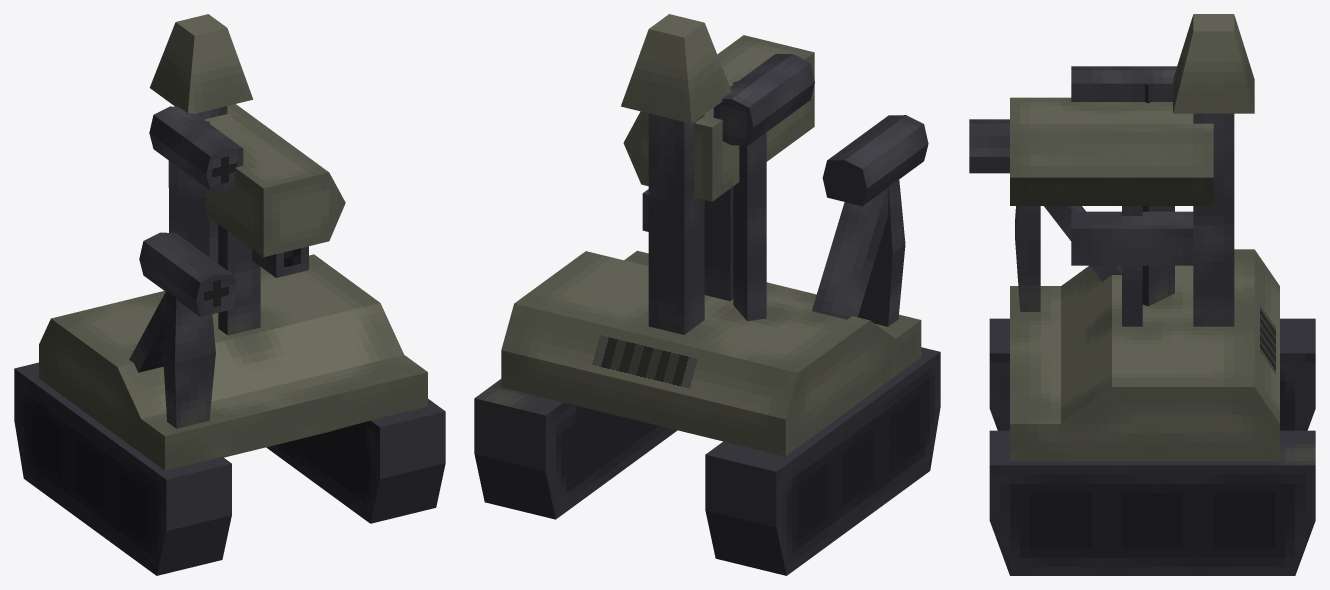
The model's file is player.gltf.
3 views of the same model, side by side, from view 1: azimuth 30°, elevation 25°; view 2: azimuth 150°, elevation 25°; view 3: azimuth 270°, elevation 25° (orthographic). The views are drawn at different scales.
Visible parts, largest first — view 1: mesh (×3), top; view 2: mesh (×3), top; view 3: mesh (×3), top.
Boxes of the visible parts, left/top/right/bottom form: mesh (×3): left=14, top=254, right=445, bottom=575; top: left=129, top=14, right=345, bottom=428; mesh (×3): left=474, top=250, right=940, bottom=575; top: left=621, top=14, right=928, bottom=334; mesh (×3): left=989, top=249, right=1315, bottom=575; top: left=969, top=14, right=1254, bottom=326.
Bounding box in the file's own units: 1.06 × 1.62 × 1.06.
Materials: 2 (2 with a texture image).
